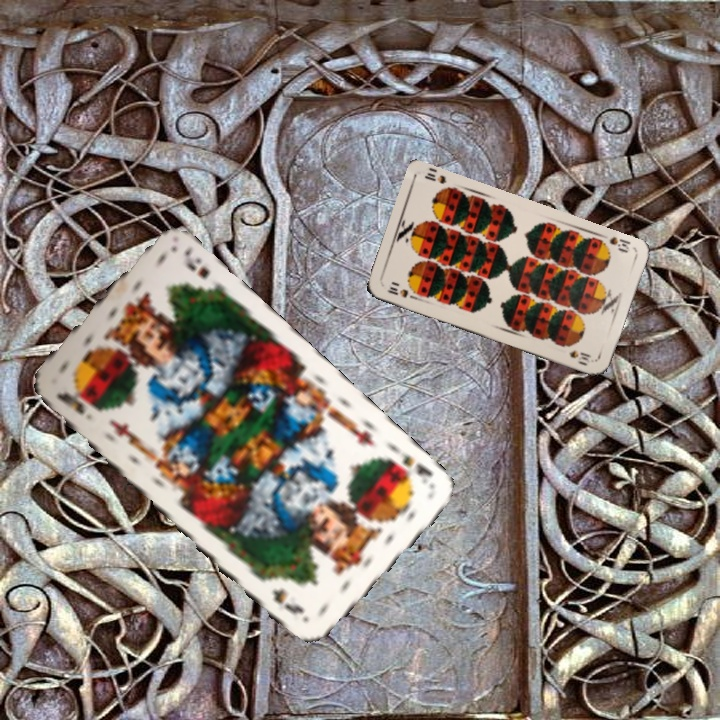S10: (383, 282, 418, 302), (605, 232, 633, 255)
SK: (383, 443, 436, 481), (51, 388, 88, 417)
